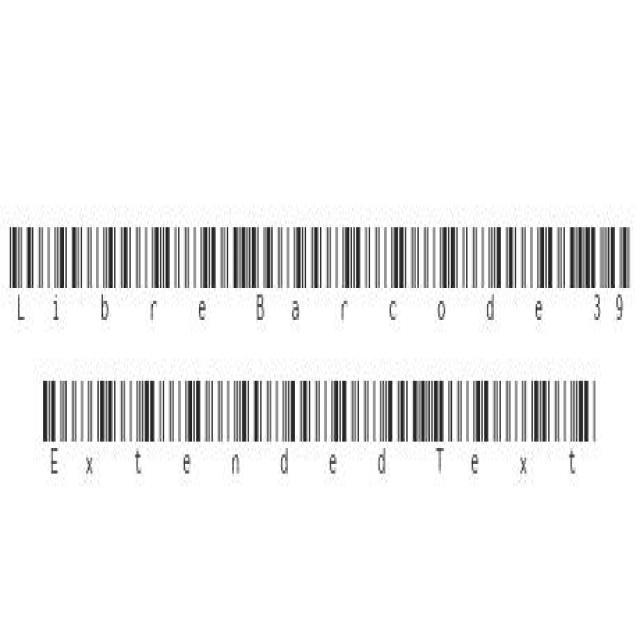Barkod: (6, 213, 634, 330), (38, 363, 600, 488)
